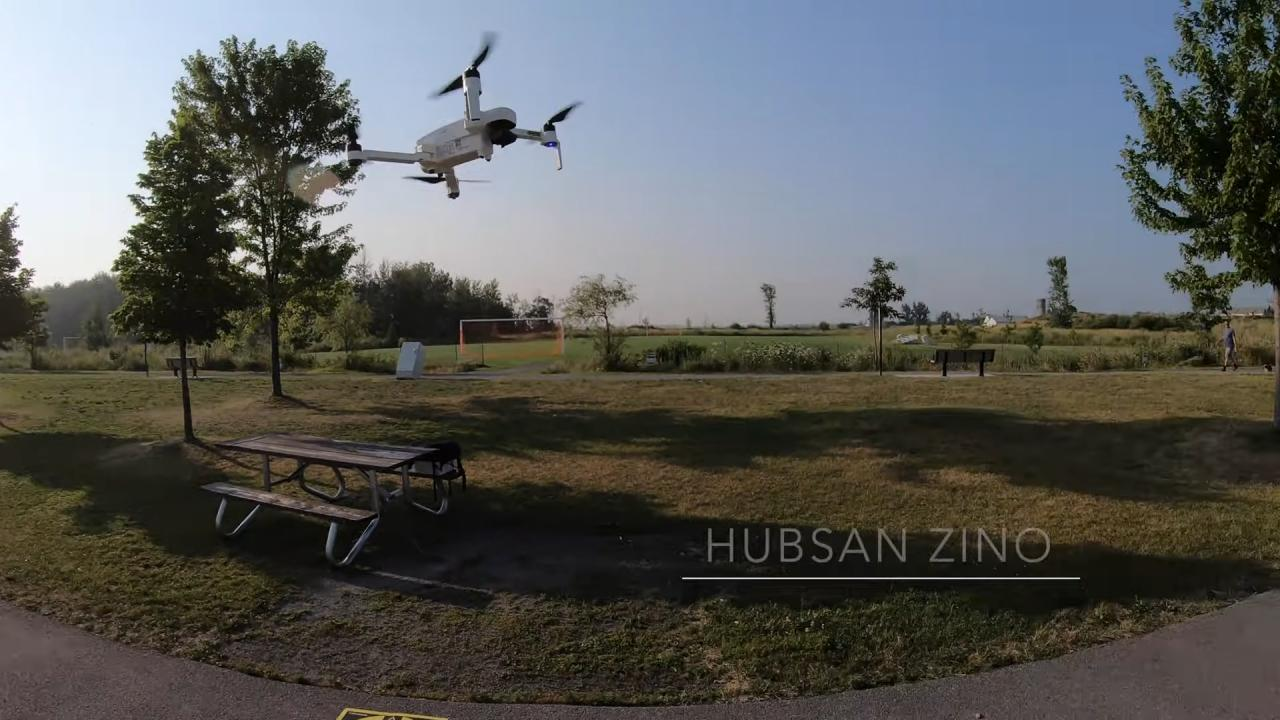Drone: (272, 21, 596, 212)
